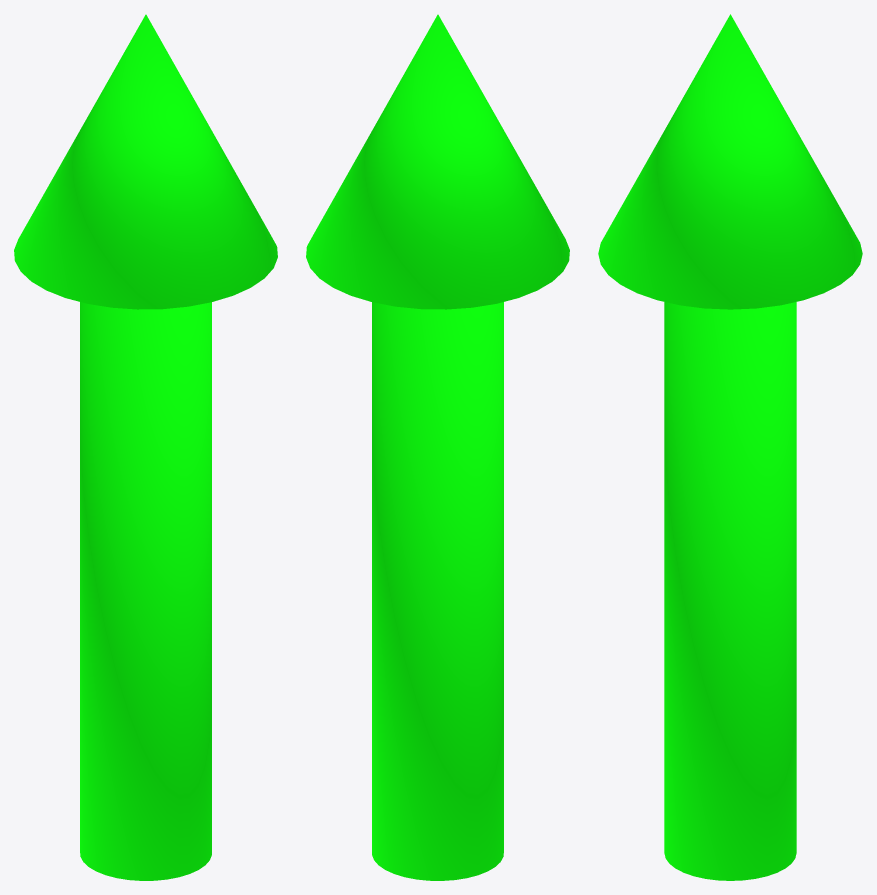
File: green_arrow.glb
3 views of the same model, side by side, from view 1: azimuth 30°, elevation 25°; view 2: azimuth 150°, elevation 25°; view 3: azimuth 270°, elevation 25° (orthographic).
Visible parts, largest first — view 1: Y Arrow; view 2: Y Arrow; view 3: Y Arrow.
Part boxes in pixels (box(x1,y1,x2,y2)): Y Arrow: box(14, 14, 277, 880); Y Arrow: box(306, 14, 569, 880); Y Arrow: box(598, 14, 862, 880).
Size of the model in its own units: 0.4 by 1.4 by 0.4.
